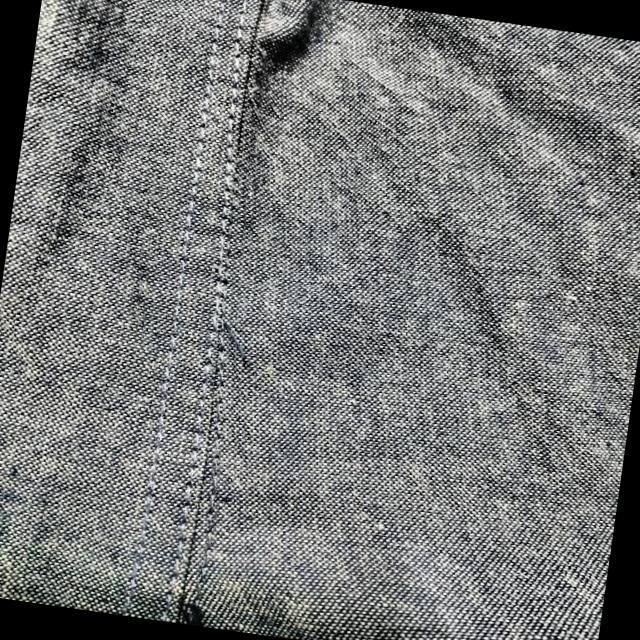gray stitch: (185, 296, 277, 393)
